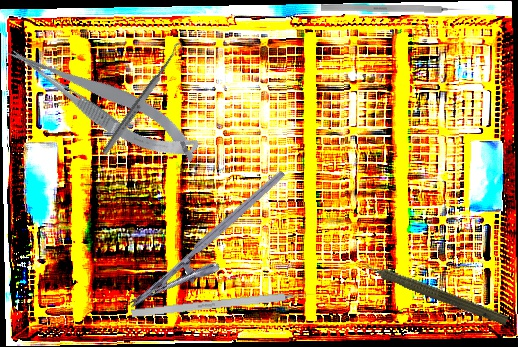Handpiece: (354, 252, 512, 329)
Hook Surgical: (131, 289, 321, 318), (320, 3, 471, 14)
Micro Scissor: (1, 20, 207, 182)
Needle Holder: (126, 168, 305, 331)
Surgical Spoon: (100, 41, 185, 157)
